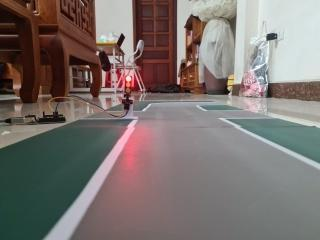red: (118, 68, 137, 104)
